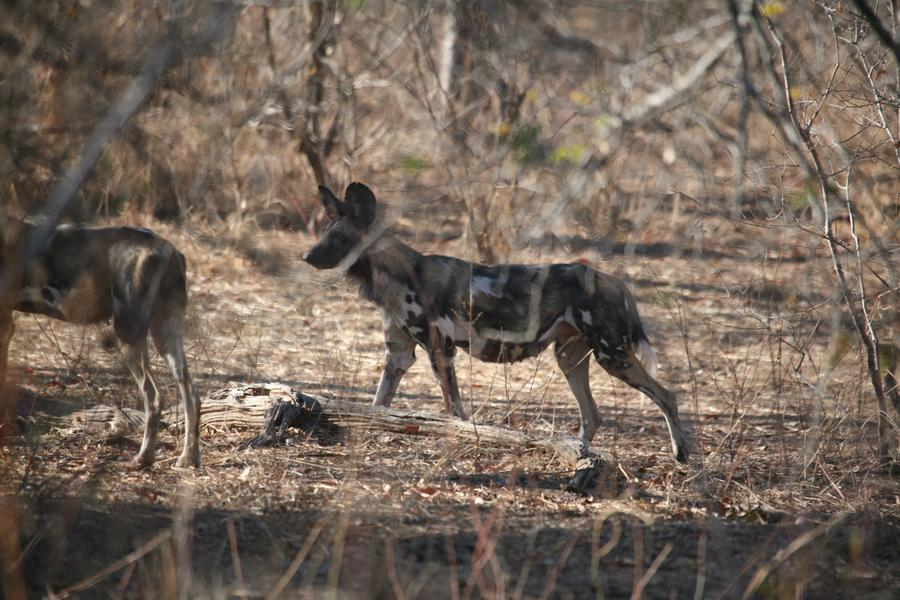wilddog: (306, 179, 694, 478), (18, 221, 192, 438)
